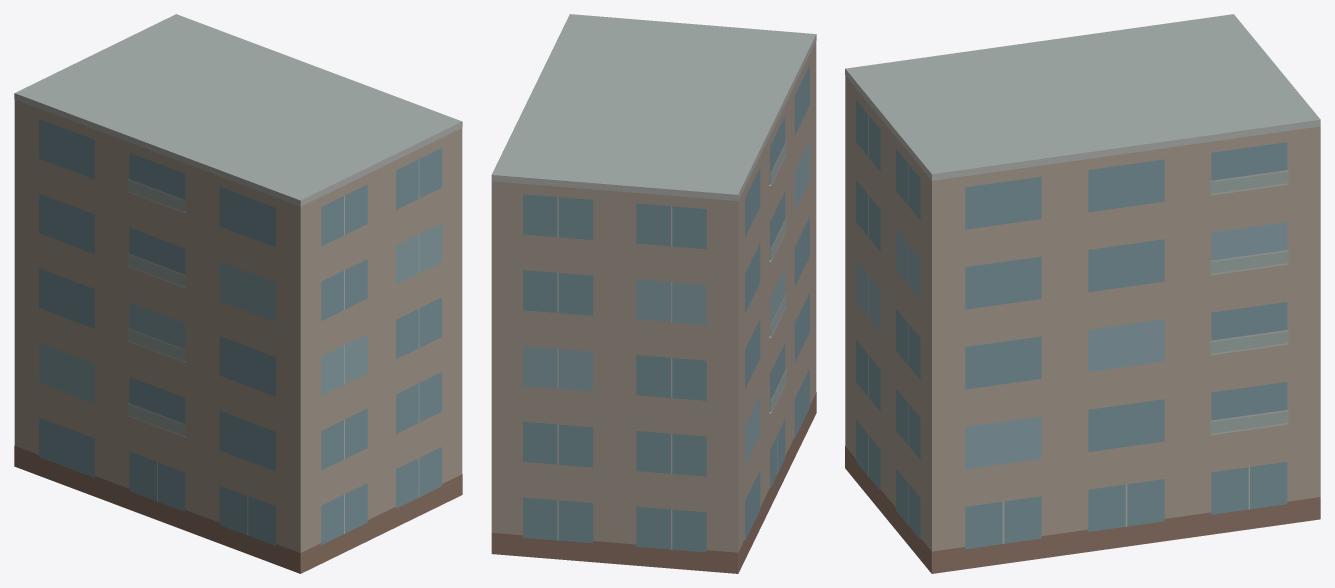
Rendered from survey-upis-32716995.glb.
3 renders of one model, left to right at view 1: azimuth 30°, elevation 25°; view 2: azimuth 150°, elevation 25°; view 3: azimuth 270°, elevation 25°, orthographic. The views are drawn at different scales.
Visible parts, largest first — view 1: survey-upis-32716995.tmp; view 2: survey-upis-32716995.tmp; view 3: survey-upis-32716995.tmp.
Boxes of the visible parts, x1,y1,x2,y2 form: survey-upis-32716995.tmp: (14, 14, 462, 573); survey-upis-32716995.tmp: (491, 14, 816, 573); survey-upis-32716995.tmp: (845, 14, 1320, 573).
Bounding box in the file's own units: 12.57 × 14.6 × 15.76.
